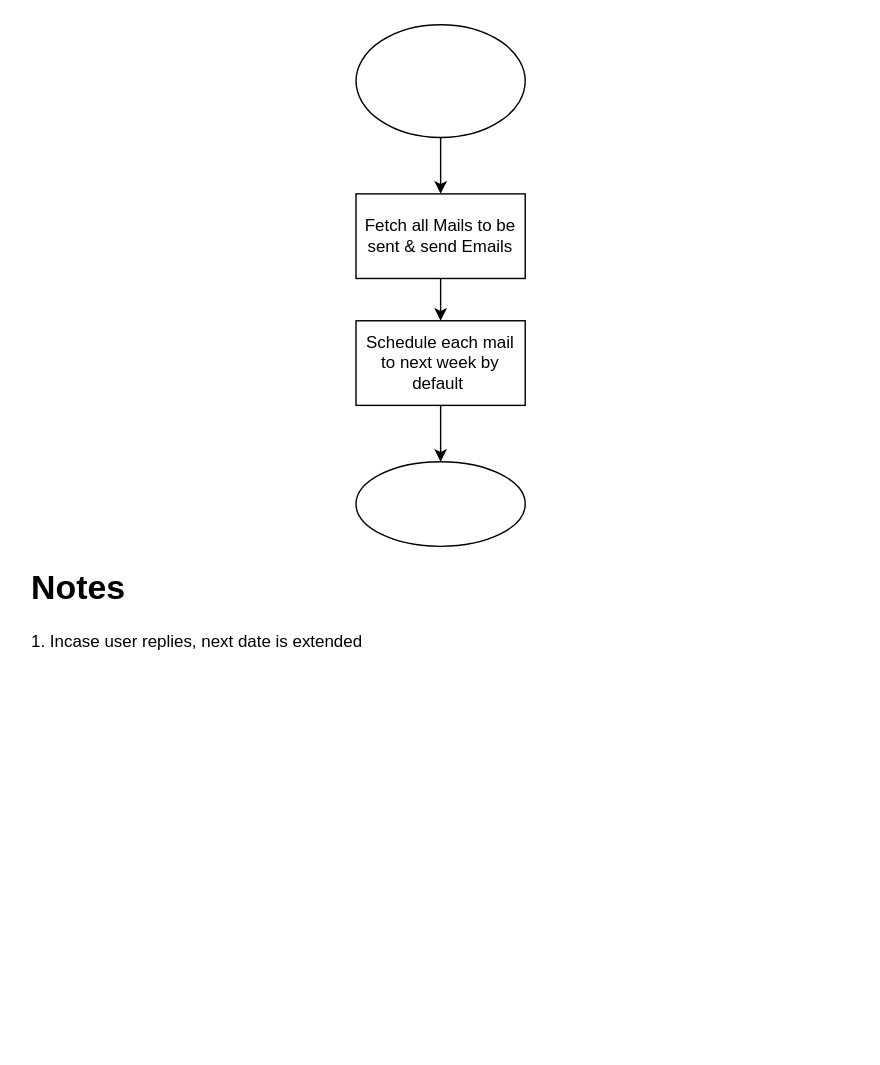
This 880x1065 diagram has some shape labels left out. Here are the shapes that lost their labels. From the top down, the box of each, then its label:
(355, 23, 525, 137): Start
(355, 460, 525, 546): End
